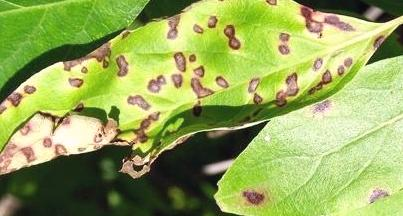Tomato leaf bacterial spot: (0, 0, 402, 196), (199, 55, 403, 216)
